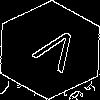V: (25, 25, 84, 81)
